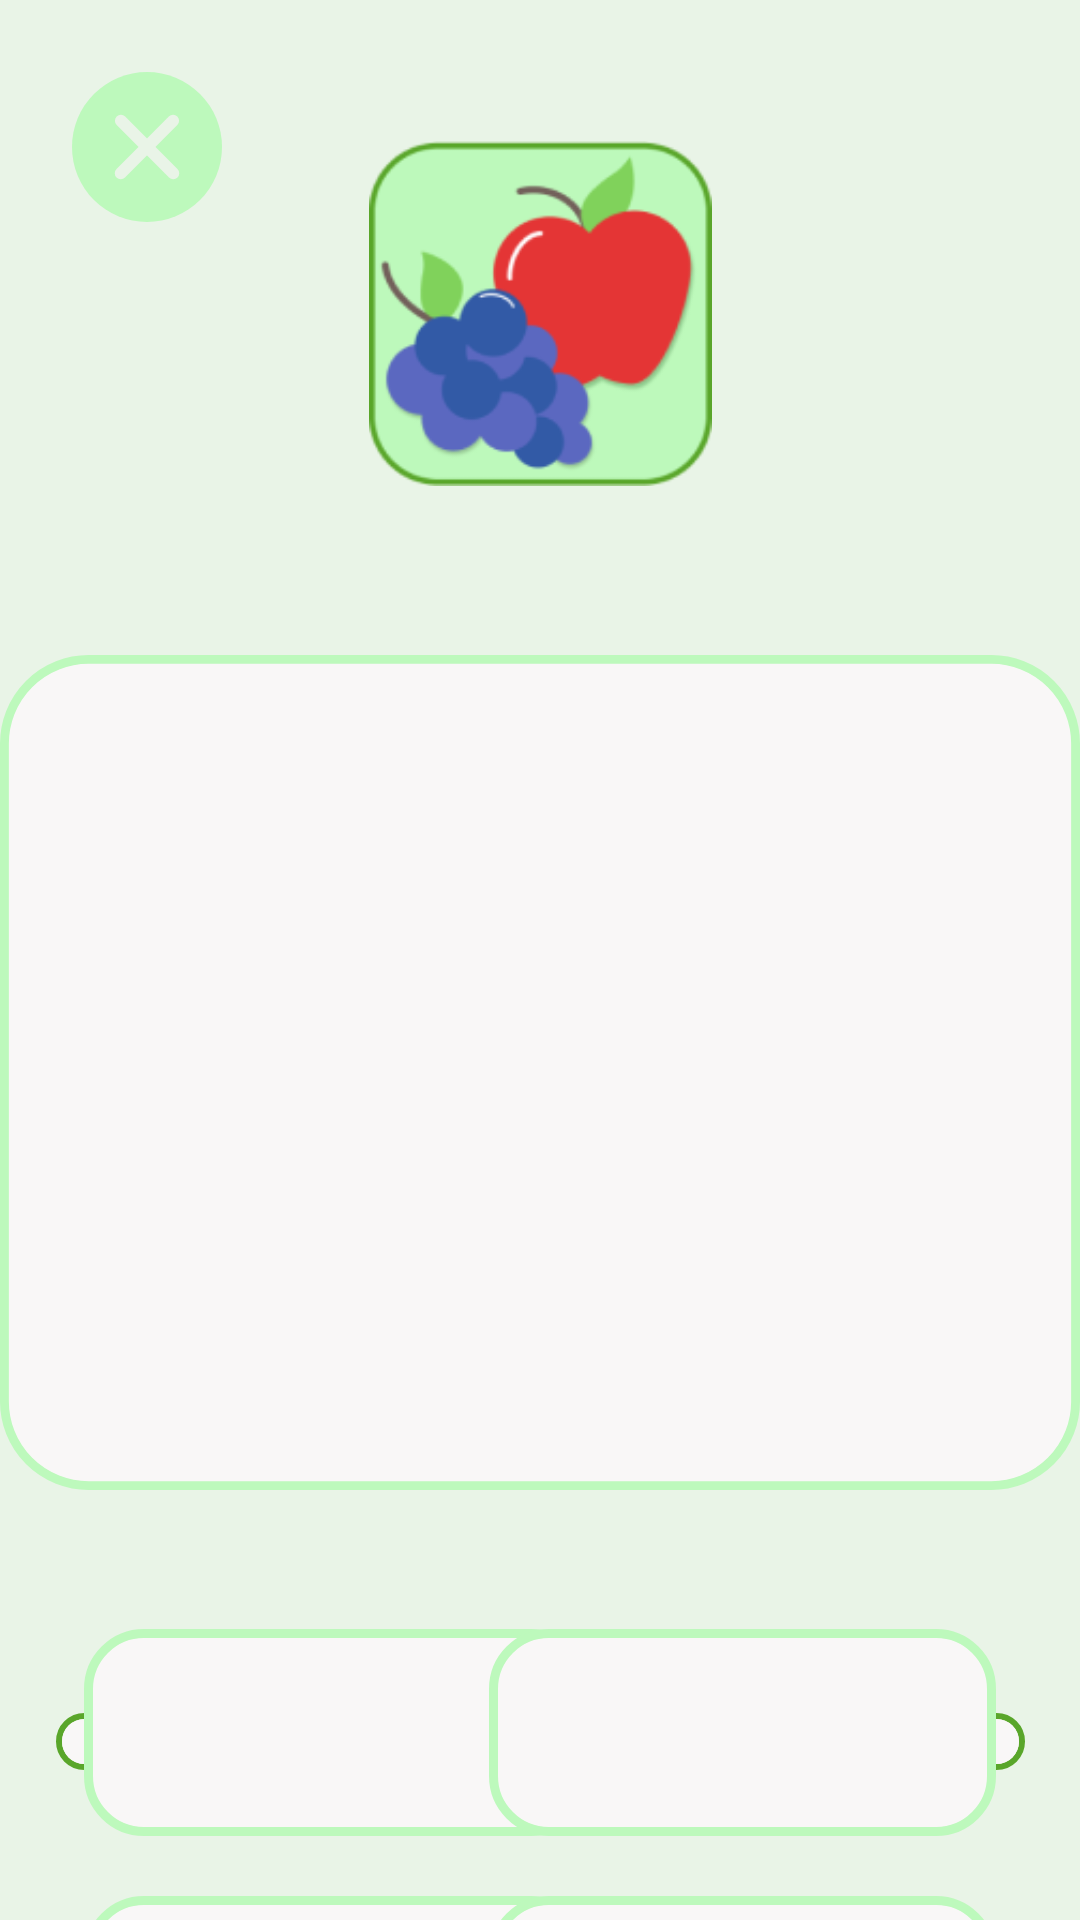

Icon bounding boxes for this 1080x1920 phone screenshot, format bbox=[x1, y1, x2, y2]:
foodgameexit: bbox=[72, 72, 222, 222]
foodgameicon: bbox=[369, 142, 712, 486]
